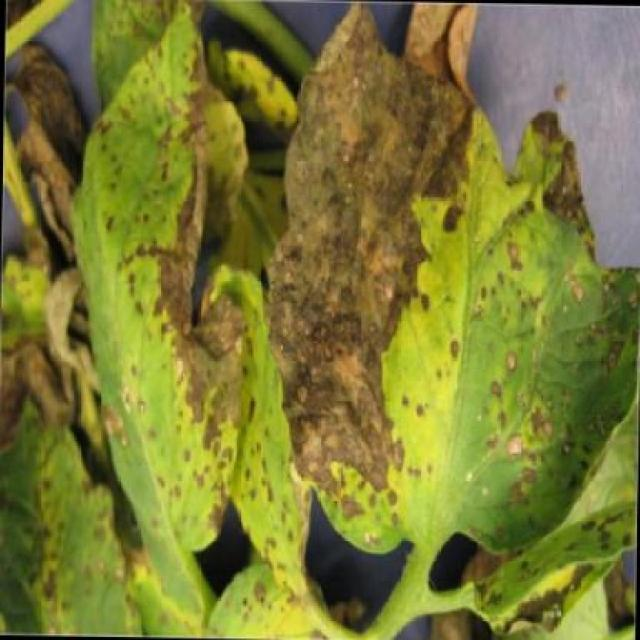Septoria leaf spot: (266, 2, 639, 566), (66, 21, 242, 598)
